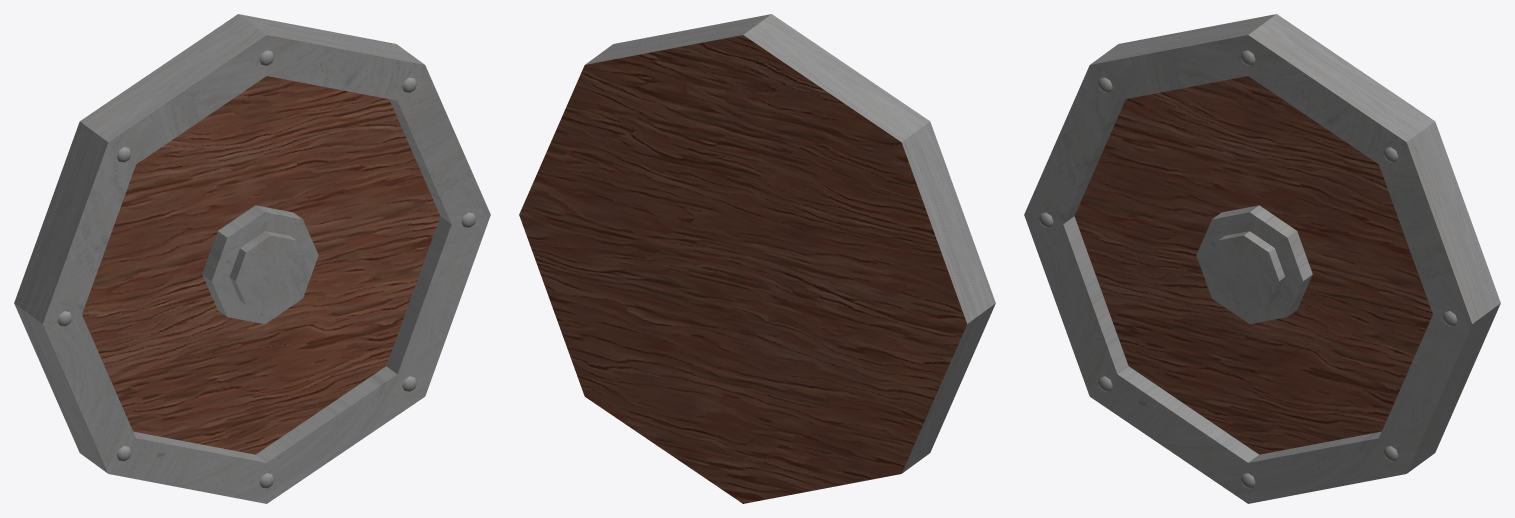
The model's file is MediavalShieldRound.fbx.
3 views of the same model, side by side, from view 1: azimuth 30°, elevation 25°; view 2: azimuth 150°, elevation 25°; view 3: azimuth 330°, elevation 25° (orthographic).
Visible parts, largest first — view 1: Cylinder; view 2: Cylinder; view 3: Cylinder.
Boxes of the visible parts, bbox=[...] form: Cylinder: bbox=[14, 14, 490, 503]; Cylinder: bbox=[519, 14, 995, 503]; Cylinder: bbox=[1024, 14, 1500, 503].
Bounding box in the file's own units: 200 × 200 × 25.52.
Materials: 2 (2 with a texture image).
